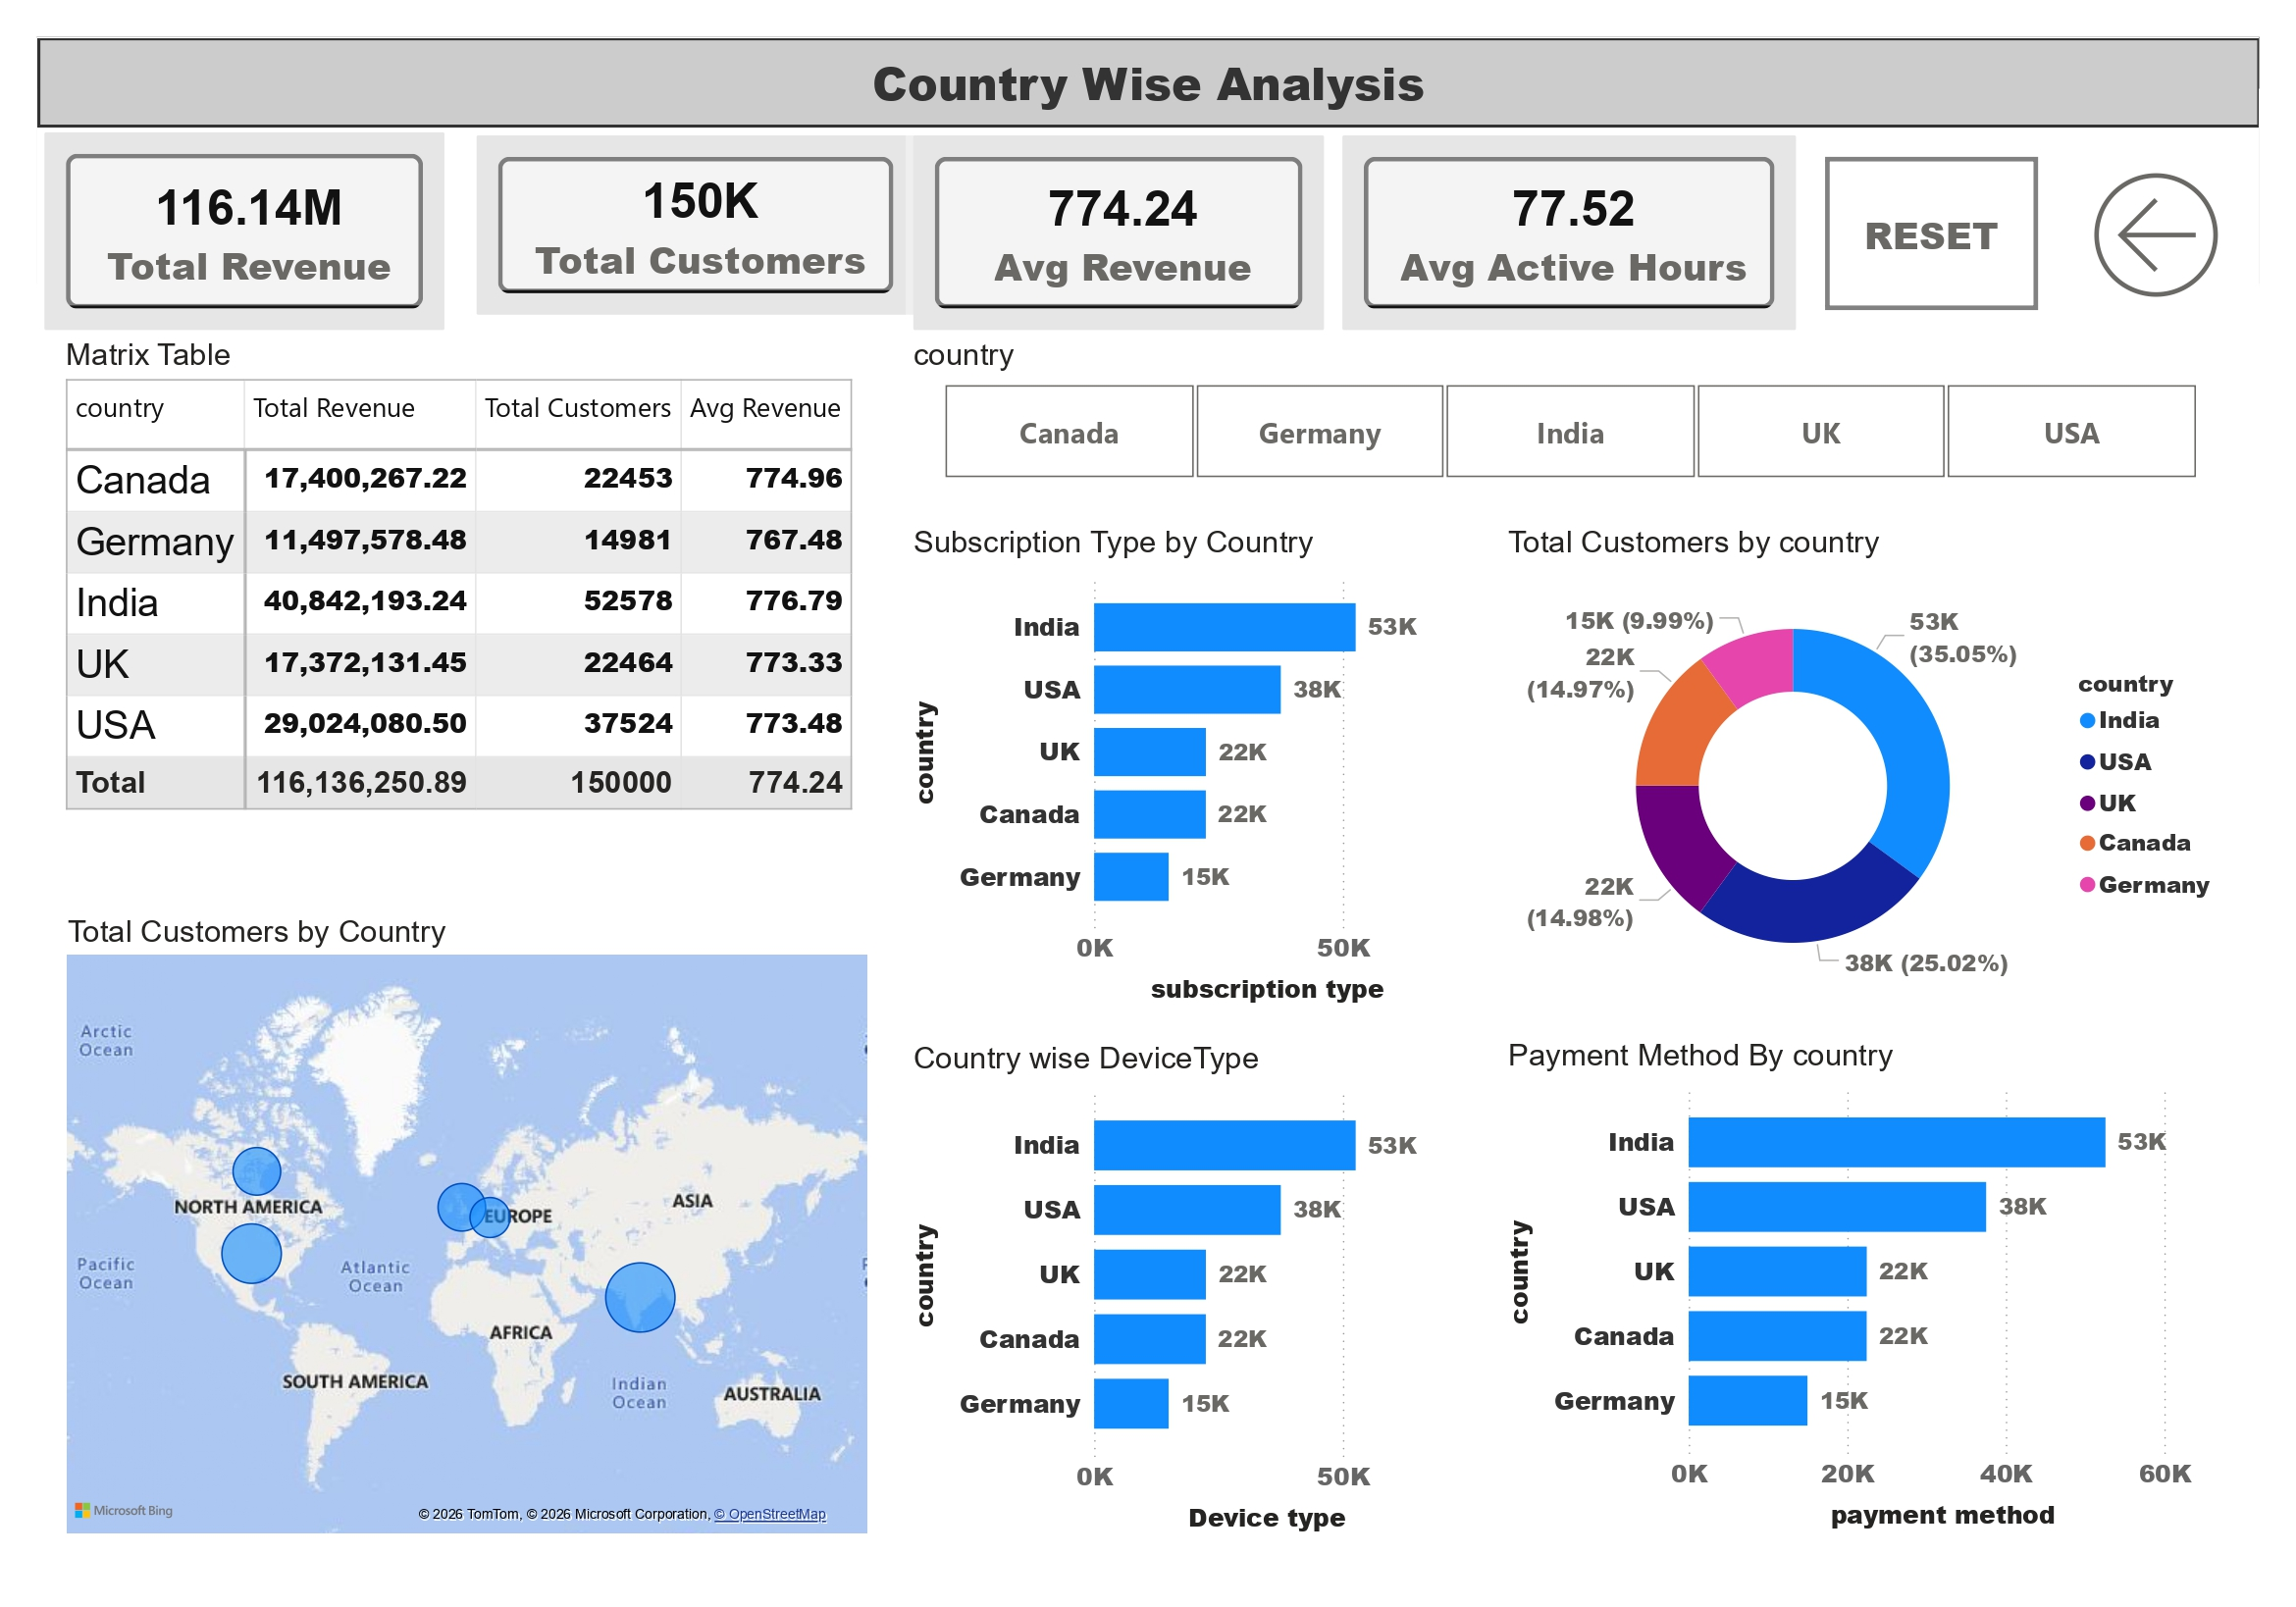

The dashboard page shown, as its layout file describes it:
{"tool":"powerbi","page":{"name":"Page 2","canvas":[1450,1000],"ordinal":1},"visuals":[{"type":"textbox","box":[0,0,1280.3,57.4],"z":0},{"type":"shape","box":[0,0,1451,59.2],"z":1000},{"type":"cardVisual","fields":{"Data":["customer_churn.Total Revenue"]},"box":[0,57.1,271.4,138.8],"z":2000},{"type":"cardVisual","fields":{"Data":["customer_churn.Total Customers"]},"box":[281.6,59.2,295.9,126.5],"z":3000},{"type":"cardVisual","fields":{"Data":["customer_churn.Avg Revenue"]},"box":[567.3,59.2,277.6,136.7],"z":4000},{"type":"cardVisual","fields":{"Data":["customer_churn.Avg Active Hours"]},"box":[846.9,59.2,306.1,136.7],"z":5000},{"type":"map","title":"Total Customers by Country","fields":{"Category":["customer_churn.country"],"Size":["customer_churn.Total Revenue"]},"box":[14.9,572.3,531.9,408.5],"z":6000},{"type":"donutChart","title":"Total Customers by country","fields":{"Y":["customer_churn.Total Customers"],"Category":["customer_churn.country"]},"box":[955.1,318.4,477.6,318.4],"z":7000},{"type":"clusteredBarChart","title":"Subscription Type by Country","fields":{"Category":["customer_churn.country"],"Y":["CountNonNull(customer_churn.subscription_type)"]},"box":[567.3,318.4,371.4,318.4],"z":8000},{"type":"clusteredBarChart","title":"Country wise DeviceType","fields":{"Category":["customer_churn.country"],"Y":["CountNonNull(customer_churn.device_type)"]},"box":[567.3,655.1,371.4,326.5],"z":9000},{"type":"clusteredBarChart","title":"Payment Method By country","fields":{"Category":["customer_churn.country"],"Y":["CountNonNull(customer_churn.payment_method)"]},"box":[955.1,653.1,477.6,326.5],"z":10000},{"type":"pivotTable","title":"Matrix Table","fields":{"Rows":["customer_churn.country"],"Values":["customer_churn.Total Revenue","customer_churn.Total Customers","customer_churn.Avg Revenue"]},"box":[14.3,195.9,532.7,361.2],"z":11000},{"type":"slicer","title":"country","fields":{"Values":["customer_churn.country"]},"box":[567.3,195.9,865.3,98],"z":11001},{"type":"actionButton","box":[1332.7,75.5,100,106.1],"z":11002},{"type":"actionButton","box":[1167.3,77.6,138.8,100],"z":11003}]}

Visuals, with their boxes on the page's 1450x1000 design canvas (x1, y1, x2, y2). These are canvas units, not pixel positions in the 2296x1607 screenshot, which may show the page scaled, cropped or inside an application window:
textbox: BBox(0, 0, 1280, 57)
shape: BBox(0, 0, 1451, 59)
cardVisual - customer_churn.Total Revenue: BBox(0, 57, 271, 196)
cardVisual - customer_churn.Total Customers: BBox(282, 59, 578, 186)
cardVisual - customer_churn.Avg Revenue: BBox(567, 59, 845, 196)
cardVisual - customer_churn.Avg Active Hours: BBox(847, 59, 1153, 196)
"Total Customers by Country" map: BBox(15, 572, 547, 981)
"Total Customers by country" donutChart: BBox(955, 318, 1433, 637)
"Subscription Type by Country" clusteredBarChart: BBox(567, 318, 939, 637)
"Country wise DeviceType" clusteredBarChart: BBox(567, 655, 939, 982)
"Payment Method By country" clusteredBarChart: BBox(955, 653, 1433, 980)
"Matrix Table" pivotTable: BBox(14, 196, 547, 557)
"country" slicer: BBox(567, 196, 1433, 294)
actionButton: BBox(1333, 76, 1433, 182)
actionButton: BBox(1167, 78, 1306, 178)
